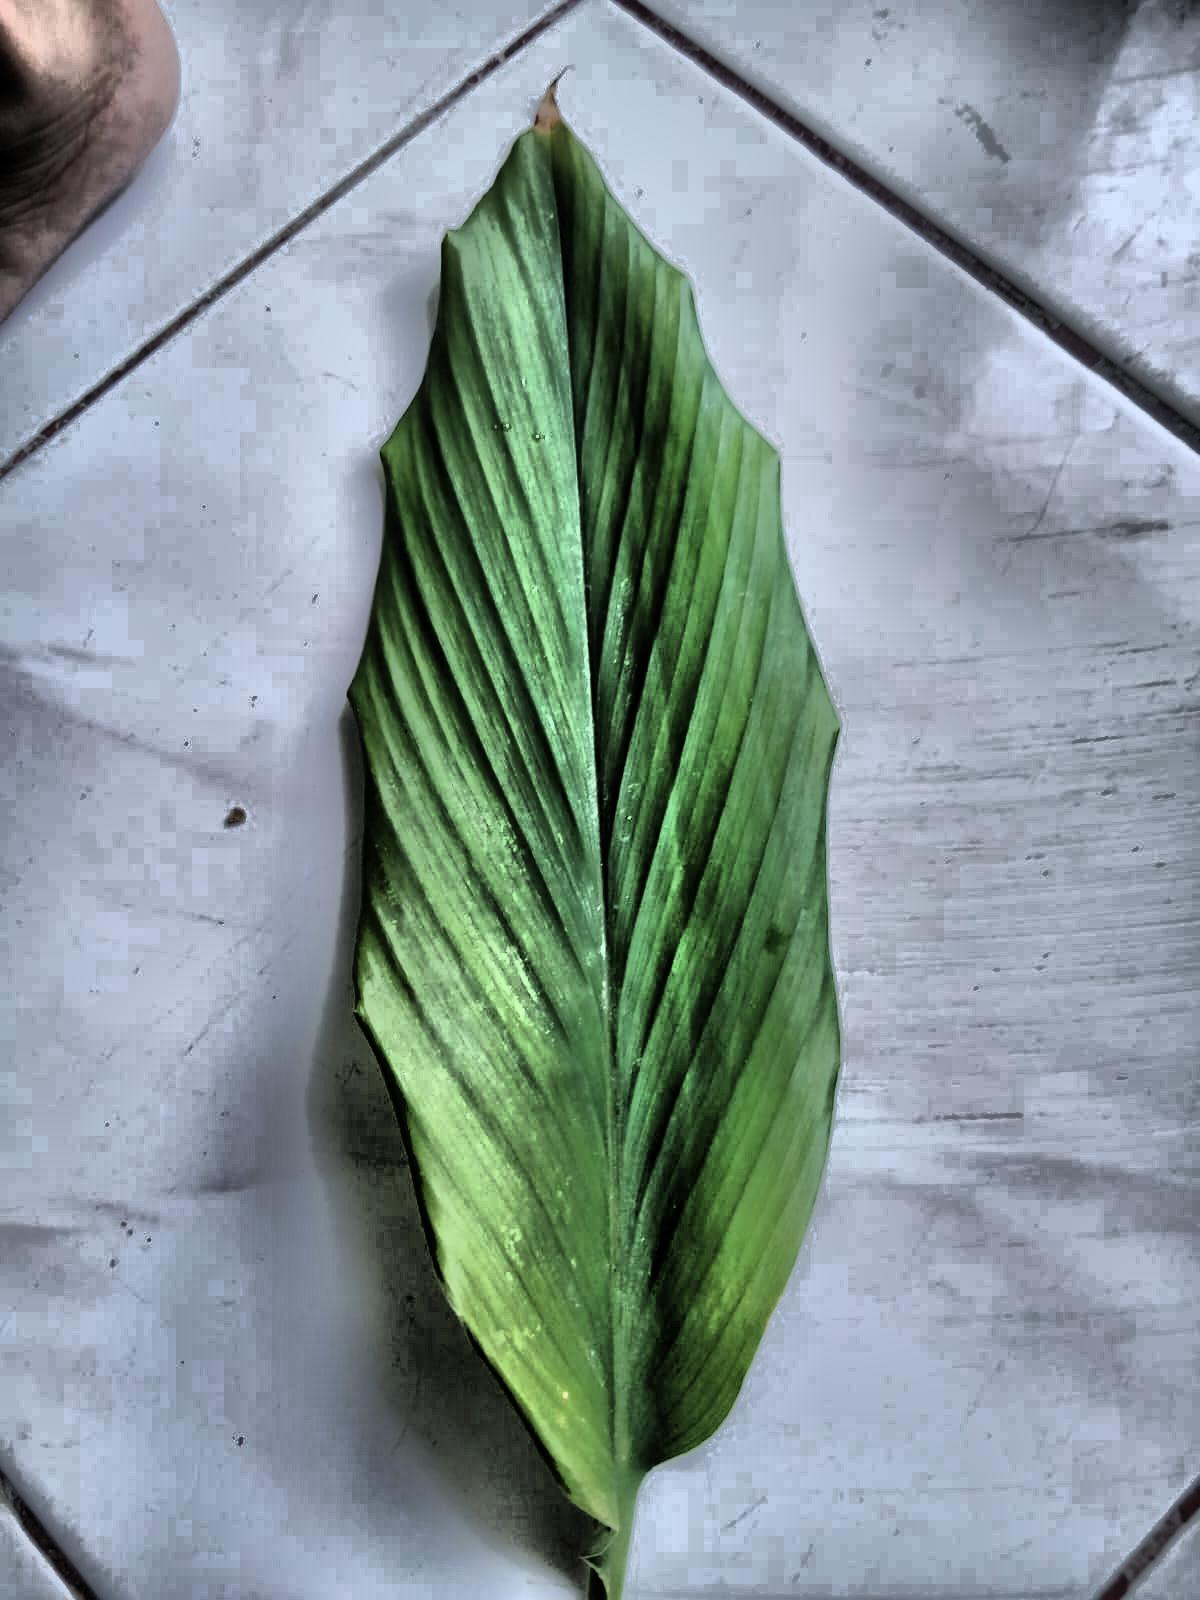daun kunyit: (349, 94, 839, 1599)
